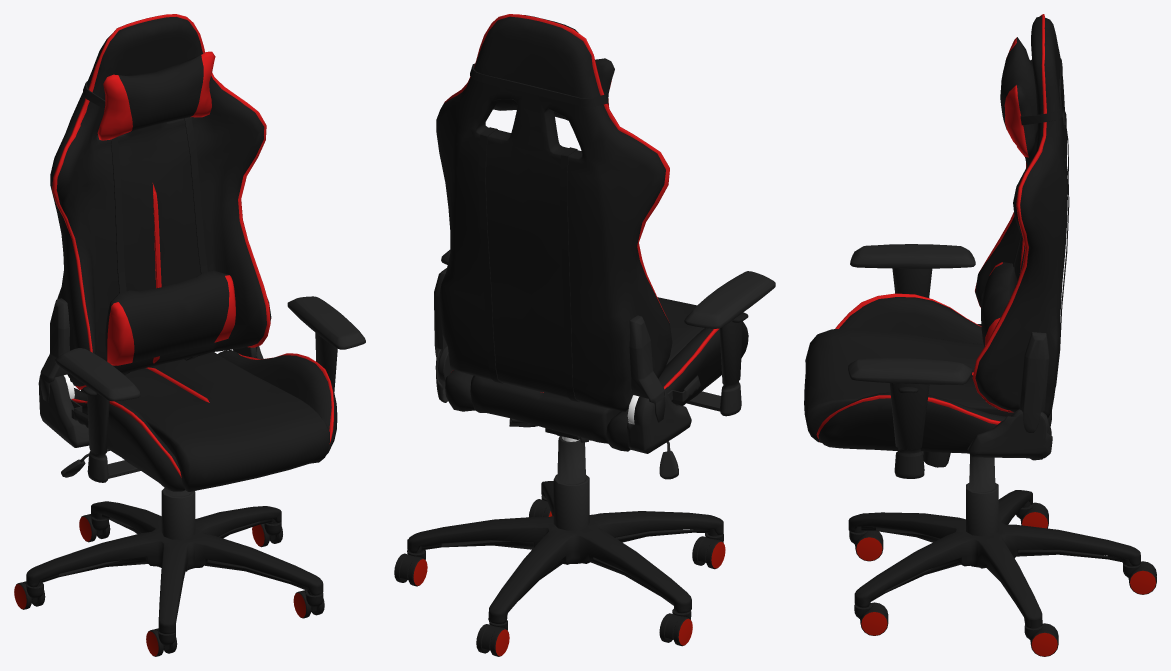
File: Gaming_Chair.glb
3 renders of one model, left to right at view 1: azimuth 30°, elevation 25°; view 2: azimuth 150°, elevation 25°; view 3: azimuth 270°, elevation 25°, orthographic. The views are drawn at different scales.
Parts seen in each view (by area): view 1: Mesh30 skp7AF7_1 Model, Mesh32 skp7AF7_1 Model, Mesh1 skp7AF7_1 Model, Mesh40 skp7AF7_1 Model, Mesh41 skp7AF7_1 Model, Mesh35 skp7AF7_1 Model, Mesh33 skp7AF7_1 Model, Mesh13 skp7AF7_1 Model, Mesh42 skp7AF7_1 Model, Mesh14 skp7AF7_1 Model, Mesh15 skp7AF7_1 Model, Mesh20 skp7AF7_1 Model (+5 smaller); view 2: Mesh30 skp7AF7_1 Model, Mesh1 skp7AF7_1 Model, Mesh32 skp7AF7_1 Model, Mesh42 skp7AF7_1 Model, Mesh35 skp7AF7_1 Model, Mesh57 skp7AF7_1 Model, Mesh14 skp7AF7_1 Model, Mesh20 skp7AF7_1 Model, Mesh24 skp7AF7_1 Model, Mesh18 skp7AF7_1 Model, Mesh13 skp7AF7_1 Model, Mesh33 skp7AF7_1 Model (+6 smaller); view 3: Mesh30 skp7AF7_1 Model, Mesh1 skp7AF7_1 Model, Mesh32 skp7AF7_1 Model, Mesh33 skp7AF7_1 Model, Mesh35 skp7AF7_1 Model, Mesh41 skp7AF7_1 Model, Mesh16 skp7AF7_1 Model, Mesh15 skp7AF7_1 Model, Mesh14 skp7AF7_1 Model, Mesh26 skp7AF7_1 Model, Mesh57 skp7AF7_1 Model, Mesh29 skp7AF7_1 Model (+10 smaller).
Part boxes in pixels (bbox=[...]): Mesh30 skp7AF7_1 Model: bbox=[50, 17, 271, 386]; Mesh32 skp7AF7_1 Model: bbox=[81, 352, 329, 491]; Mesh1 skp7AF7_1 Model: bbox=[26, 501, 323, 633]; Mesh40 skp7AF7_1 Model: bbox=[105, 270, 235, 365]; Mesh41 skp7AF7_1 Model: bbox=[97, 51, 215, 140]; Mesh35 skp7AF7_1 Model: bbox=[74, 388, 184, 491]; Mesh33 skp7AF7_1 Model: bbox=[218, 350, 337, 453]; Mesh13 skp7AF7_1 Model: bbox=[52, 14, 270, 389]; Mesh42 skp7AF7_1 Model: bbox=[83, 76, 211, 375]; Mesh14 skp7AF7_1 Model: bbox=[55, 348, 140, 401]; Mesh15 skp7AF7_1 Model: bbox=[287, 296, 365, 349]; Mesh20 skp7AF7_1 Model: bbox=[38, 375, 89, 447]; Mesh30 skp7AF7_1 Model: bbox=[436, 15, 672, 411]; Mesh1 skp7AF7_1 Model: bbox=[407, 481, 723, 623]; Mesh32 skp7AF7_1 Model: bbox=[470, 297, 704, 443]; Mesh42 skp7AF7_1 Model: bbox=[470, 63, 608, 402]; Mesh35 skp7AF7_1 Model: bbox=[606, 322, 748, 451]; Mesh57 skp7AF7_1 Model: bbox=[553, 436, 589, 530]; Mesh14 skp7AF7_1 Model: bbox=[684, 271, 775, 328]; Mesh20 skp7AF7_1 Model: bbox=[627, 389, 691, 453]; Mesh24 skp7AF7_1 Model: bbox=[629, 315, 665, 422]; Mesh18 skp7AF7_1 Model: bbox=[719, 320, 742, 416]; Mesh13 skp7AF7_1 Model: bbox=[444, 14, 669, 322]; Mesh33 skp7AF7_1 Model: bbox=[445, 370, 474, 411]; Mesh30 skp7AF7_1 Model: bbox=[975, 16, 1067, 418]; Mesh1 skp7AF7_1 Model: bbox=[848, 490, 1140, 627]; Mesh32 skp7AF7_1 Model: bbox=[804, 328, 1051, 442]; Mesh33 skp7AF7_1 Model: bbox=[818, 392, 1051, 460]; Mesh35 skp7AF7_1 Model: bbox=[839, 297, 983, 344]; Mesh41 skp7AF7_1 Model: bbox=[1000, 37, 1037, 157]; Mesh16 skp7AF7_1 Model: bbox=[889, 383, 929, 478]; Mesh15 skp7AF7_1 Model: bbox=[848, 358, 972, 384]; Mesh14 skp7AF7_1 Model: bbox=[850, 244, 975, 268]; Mesh26 skp7AF7_1 Model: bbox=[967, 412, 1052, 458]; Mesh57 skp7AF7_1 Model: bbox=[966, 455, 998, 536]; Mesh29 skp7AF7_1 Model: bbox=[1019, 332, 1049, 432].
Bounding box in the file's own units: 26.5 × 53.11 × 29.97.
